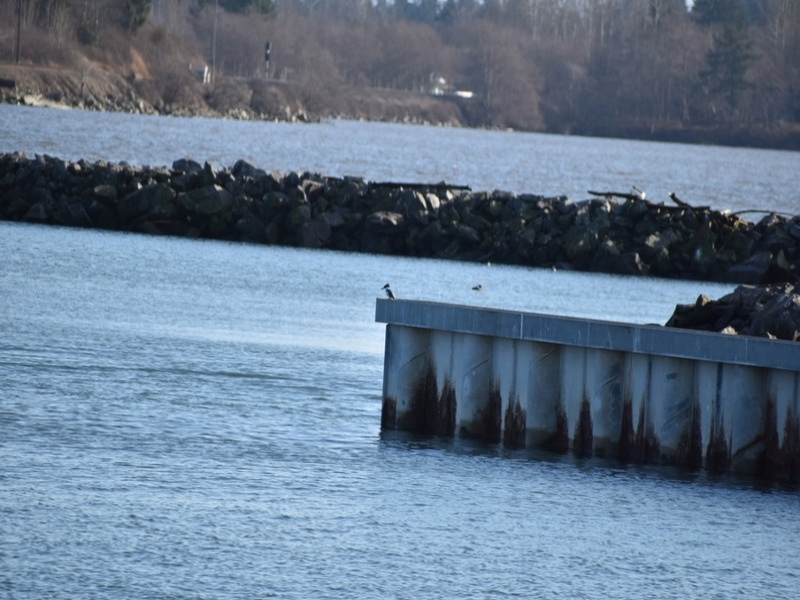kingfisher: (383, 282, 395, 299)
